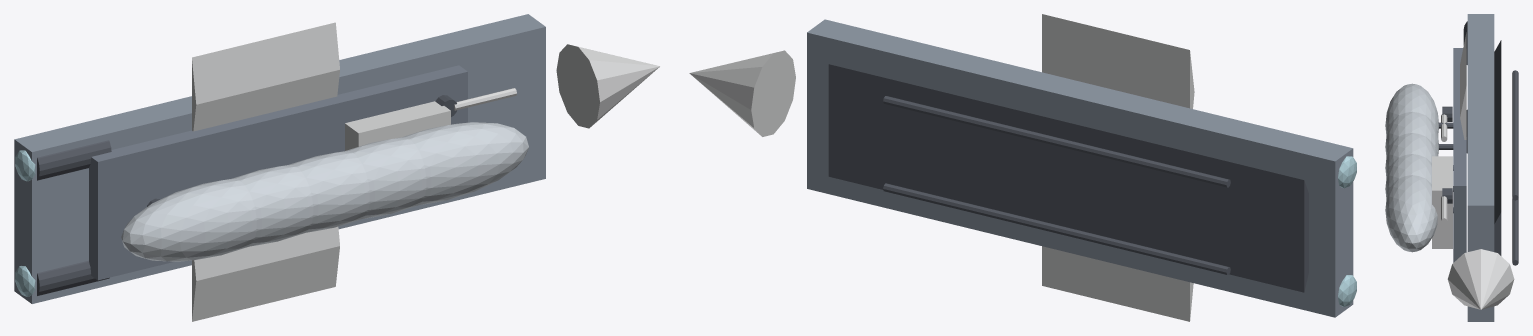
The model's file is SWS-011_moonwake_medical_ark.glb.
3 views of the same model, side by side, from view 1: azimuth 30°, elevation 25°; view 2: azimuth 150°, elevation 25°; view 3: azimuth 270°, elevation 25° (orthographic). The views are drawn at different scales.
Parts seen in each view (by area): view 1: main_hull, upper_deck, wing_1, wing_-1, aether_lift_bladder_1, aether_lift_bladder_5, aether_nose, aether_lift_bladder_4, aether_lift_bladder_2, aether_lift_bladder_3, bridge, engine_pod_1 (+4 smaller); view 2: keel, main_hull, wing_1, wing_-1, aether_nose, landing_skid_-1, landing_skid_1, engine_glow_1, engine_glow_-1; view 3: main_hull, aether_lift_bladder_5, aether_nose, upper_deck, keel, bridge, aether_lift_bladder_1, aether_lift_bladder_2, aether_lift_bladder_3, aether_lift_bladder_4, landing_skid_1, wing_1 (+6 smaller).
Part boxes in pixels (bbox=[...]): main_hull: bbox=[14, 14, 545, 303]; upper_deck: bbox=[89, 65, 467, 280]; wing_1: bbox=[192, 22, 339, 131]; wing_-1: bbox=[192, 226, 339, 321]; aether_lift_bladder_1: bbox=[121, 178, 256, 261]; aether_lift_bladder_5: bbox=[402, 122, 528, 204]; aether_nose: bbox=[556, 44, 659, 128]; aether_lift_bladder_4: bbox=[345, 137, 426, 218]; aether_lift_bladder_2: bbox=[232, 165, 313, 246]; aether_lift_bladder_3: bbox=[289, 151, 369, 232]; bridge: bbox=[345, 101, 450, 150]; engine_pod_1: bbox=[37, 140, 111, 180]; keel: bbox=[828, 64, 1308, 292]; main_hull: bbox=[807, 19, 1353, 317]; wing_1: bbox=[1042, 14, 1194, 108]; wing_-1: bbox=[1042, 246, 1193, 321]; aether_nose: bbox=[689, 50, 795, 136]; landing_skid_-1: bbox=[883, 183, 1230, 274]; landing_skid_1: bbox=[883, 96, 1230, 187]; engine_glow_1: bbox=[1338, 156, 1356, 188]; engine_glow_-1: bbox=[1338, 275, 1356, 306]; main_hull: bbox=[1467, 14, 1494, 321]; aether_lift_bladder_5: bbox=[1385, 175, 1437, 252]; aether_nose: bbox=[1447, 249, 1514, 309]; upper_deck: bbox=[1453, 48, 1466, 262]; keel: bbox=[1494, 40, 1501, 255]; bridge: bbox=[1432, 156, 1452, 248]; aether_lift_bladder_1: bbox=[1385, 83, 1438, 135]; aether_lift_bladder_2: bbox=[1385, 111, 1438, 156]; aether_lift_bladder_3: bbox=[1385, 133, 1437, 177]; aether_lift_bladder_4: bbox=[1385, 154, 1431, 198]; landing_skid_1: bbox=[1512, 70, 1518, 200]; wing_1: bbox=[1460, 32, 1466, 139].
Size of the model in its own units: 115 by 45.24 by 27.02.
